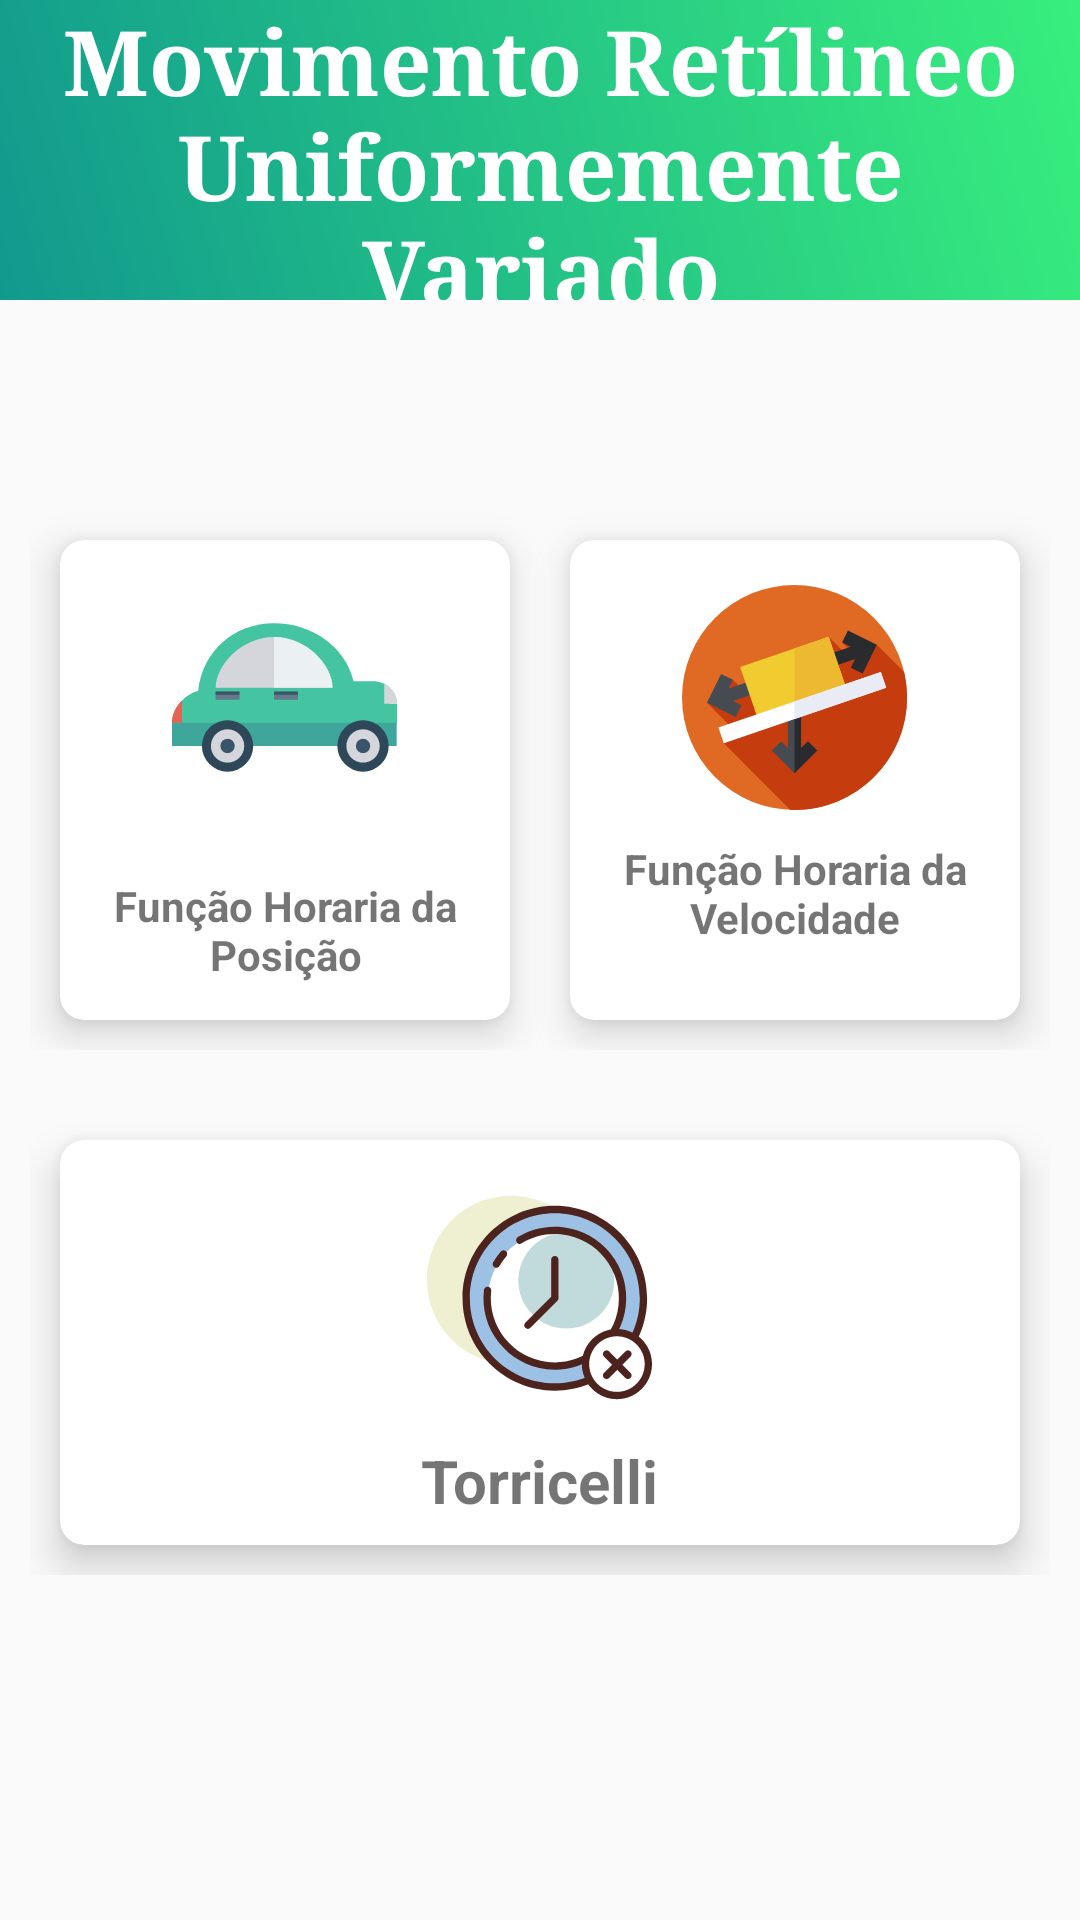

Where icons sit on this 1080px x 1920px app screen, as (x1, y1, x2, y2):
carro: (172, 623, 397, 772)
dinamica: (682, 585, 907, 810)
